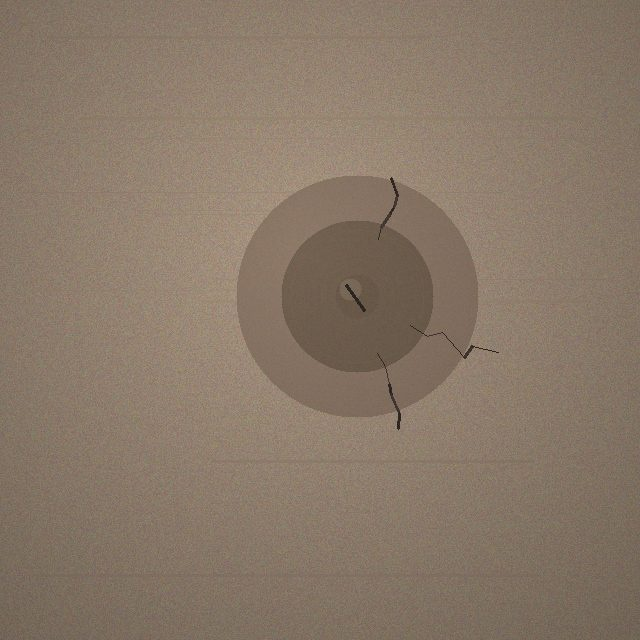crack: (236, 175, 478, 417)
